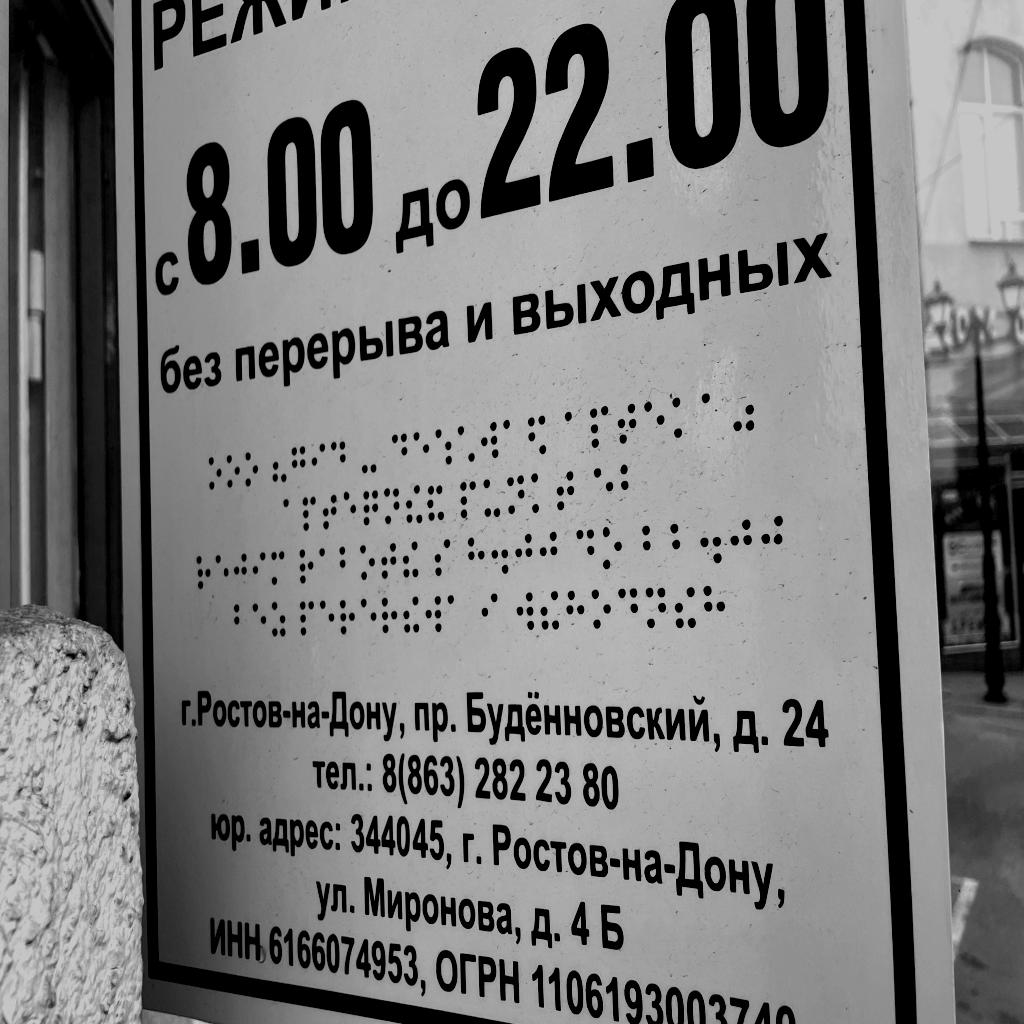_n: (645, 585, 668, 630), (507, 474, 526, 516), (383, 484, 400, 525)
_y: (483, 477, 502, 518)
a: (701, 391, 722, 437), (564, 409, 583, 451), (502, 417, 521, 458), (447, 594, 465, 630), (283, 497, 300, 535), (319, 546, 335, 585)
b: (338, 545, 356, 583), (234, 603, 250, 640)
ch: (363, 487, 379, 526)
d: (618, 586, 638, 630), (576, 526, 595, 569), (391, 431, 408, 473), (330, 439, 347, 478)
defis: (360, 440, 378, 475)
e: (643, 399, 666, 444), (413, 430, 431, 471), (360, 596, 378, 635), (319, 599, 335, 637), (251, 601, 267, 638), (343, 491, 357, 531), (215, 554, 229, 591)
g: (290, 445, 307, 484)
gh: (233, 553, 248, 589)
i: (482, 592, 499, 632), (311, 442, 326, 481), (252, 552, 266, 589)
iKratkoe: (427, 482, 444, 521)
ii: (675, 584, 696, 629), (541, 591, 561, 632), (406, 483, 423, 525), (402, 539, 419, 579), (403, 596, 420, 635)
k: (672, 395, 694, 439), (531, 473, 551, 516)
kavichki1: (272, 445, 287, 484)
kavichki2: (732, 387, 755, 433)
m: (271, 549, 285, 585)
o: (602, 524, 624, 570), (590, 588, 612, 629), (359, 543, 376, 582), (244, 450, 259, 488), (207, 454, 222, 491), (226, 452, 240, 488)
p: (589, 405, 610, 450), (460, 479, 477, 519), (299, 599, 315, 636), (302, 495, 317, 532)
r: (381, 595, 398, 634), (340, 599, 357, 637), (298, 548, 314, 585), (196, 555, 211, 590)
s: (434, 537, 451, 577)
sh: (435, 427, 454, 468)
t: (617, 401, 637, 445), (556, 470, 575, 512), (381, 542, 398, 580), (323, 492, 338, 530)
tochka: (699, 519, 723, 565), (491, 535, 509, 575)
v: (480, 419, 499, 460), (517, 591, 535, 632), (425, 594, 443, 634)
x: (703, 584, 726, 630), (567, 590, 586, 632)
ya: (527, 414, 547, 457)
yo: (456, 424, 475, 465)
z: (271, 600, 287, 638)
